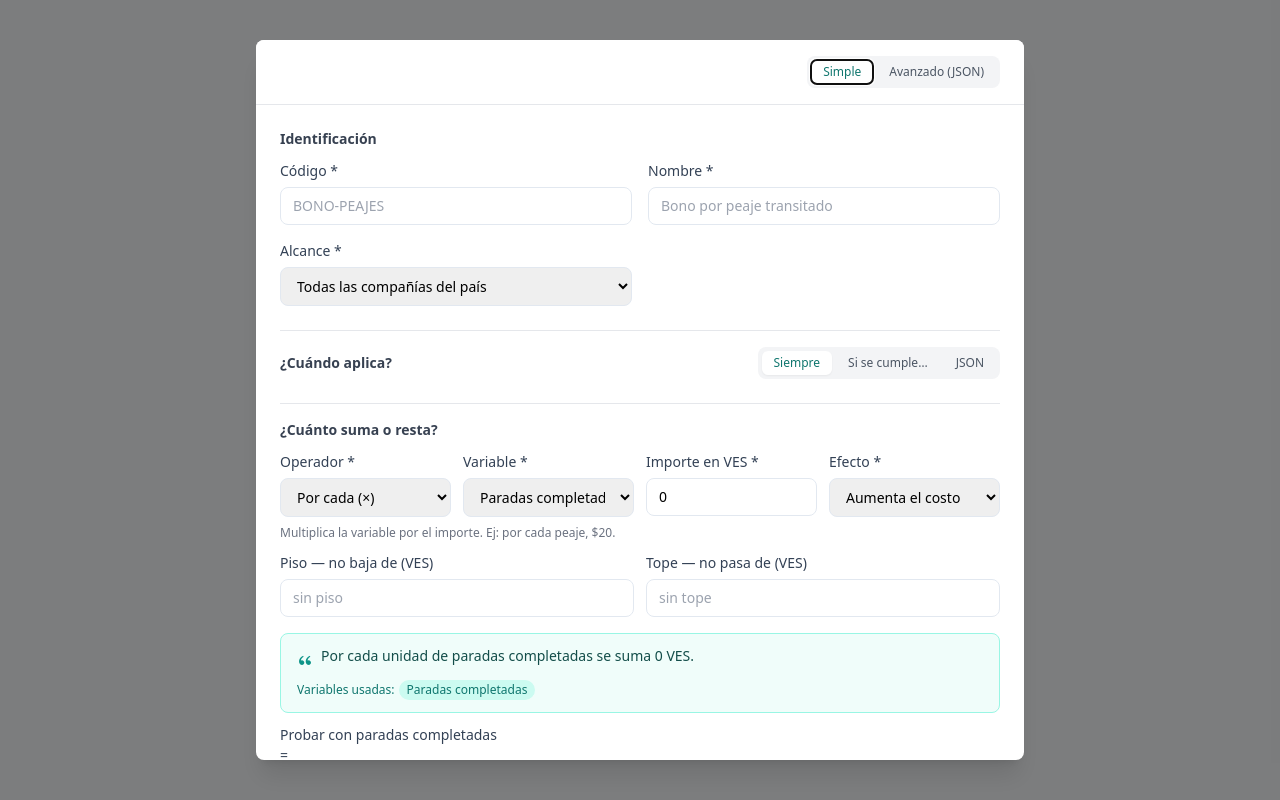
it: RuleModal (caracterización) › alcance por compañía sin elegir compañía lo pide
Select "Solo una compañía" in the dropdown labelled "Alcance *" at (456, 286), box [280,267,632,306]
(page scrolled)
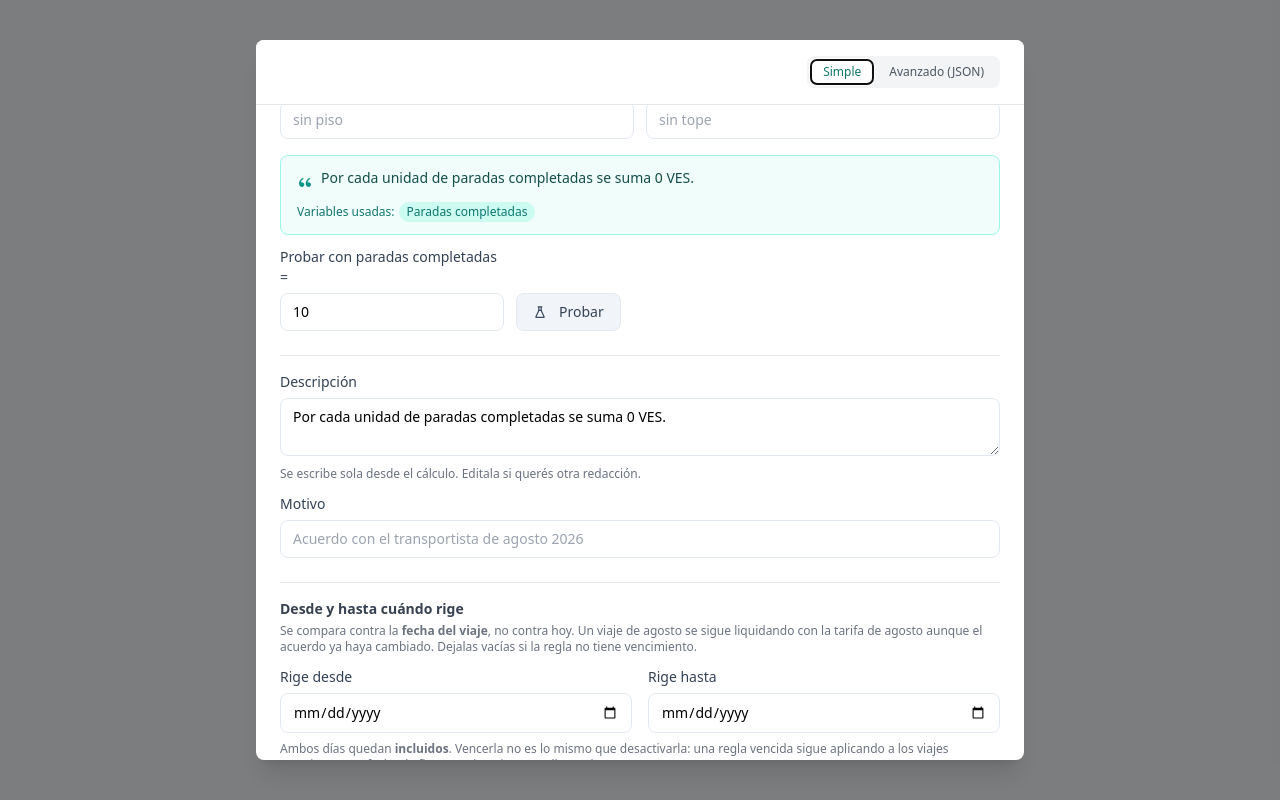
Submit the form
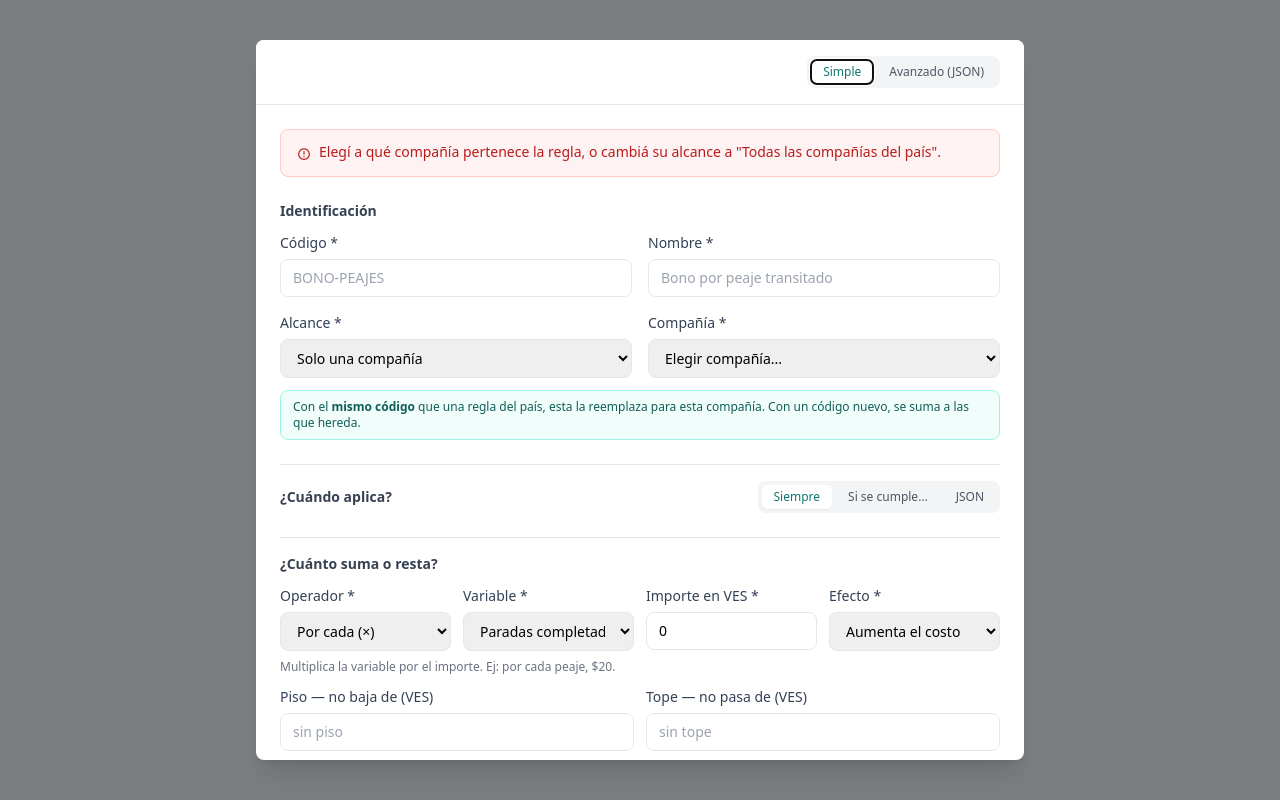
Now the text "Elegí a qué compañía pertenece la regla" is shown, box [319,142,941,161]
